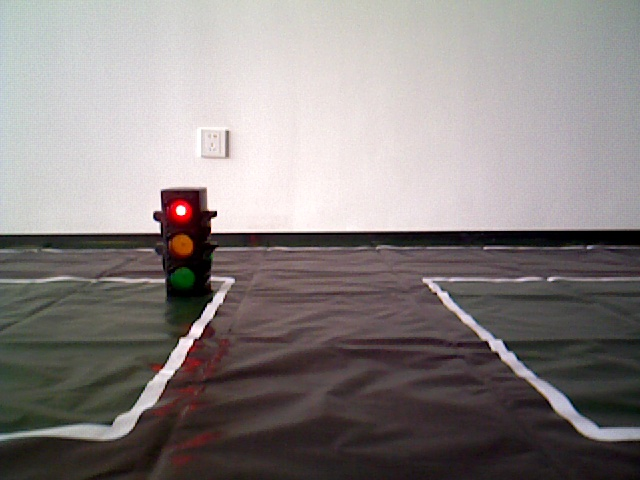red: (163, 190, 206, 297)
